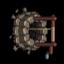Hide: (4, 4, 60, 62)
